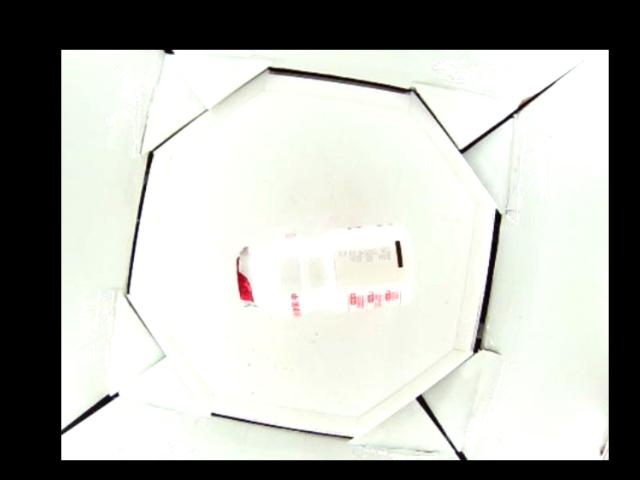Bottle: (234, 222, 416, 320)
